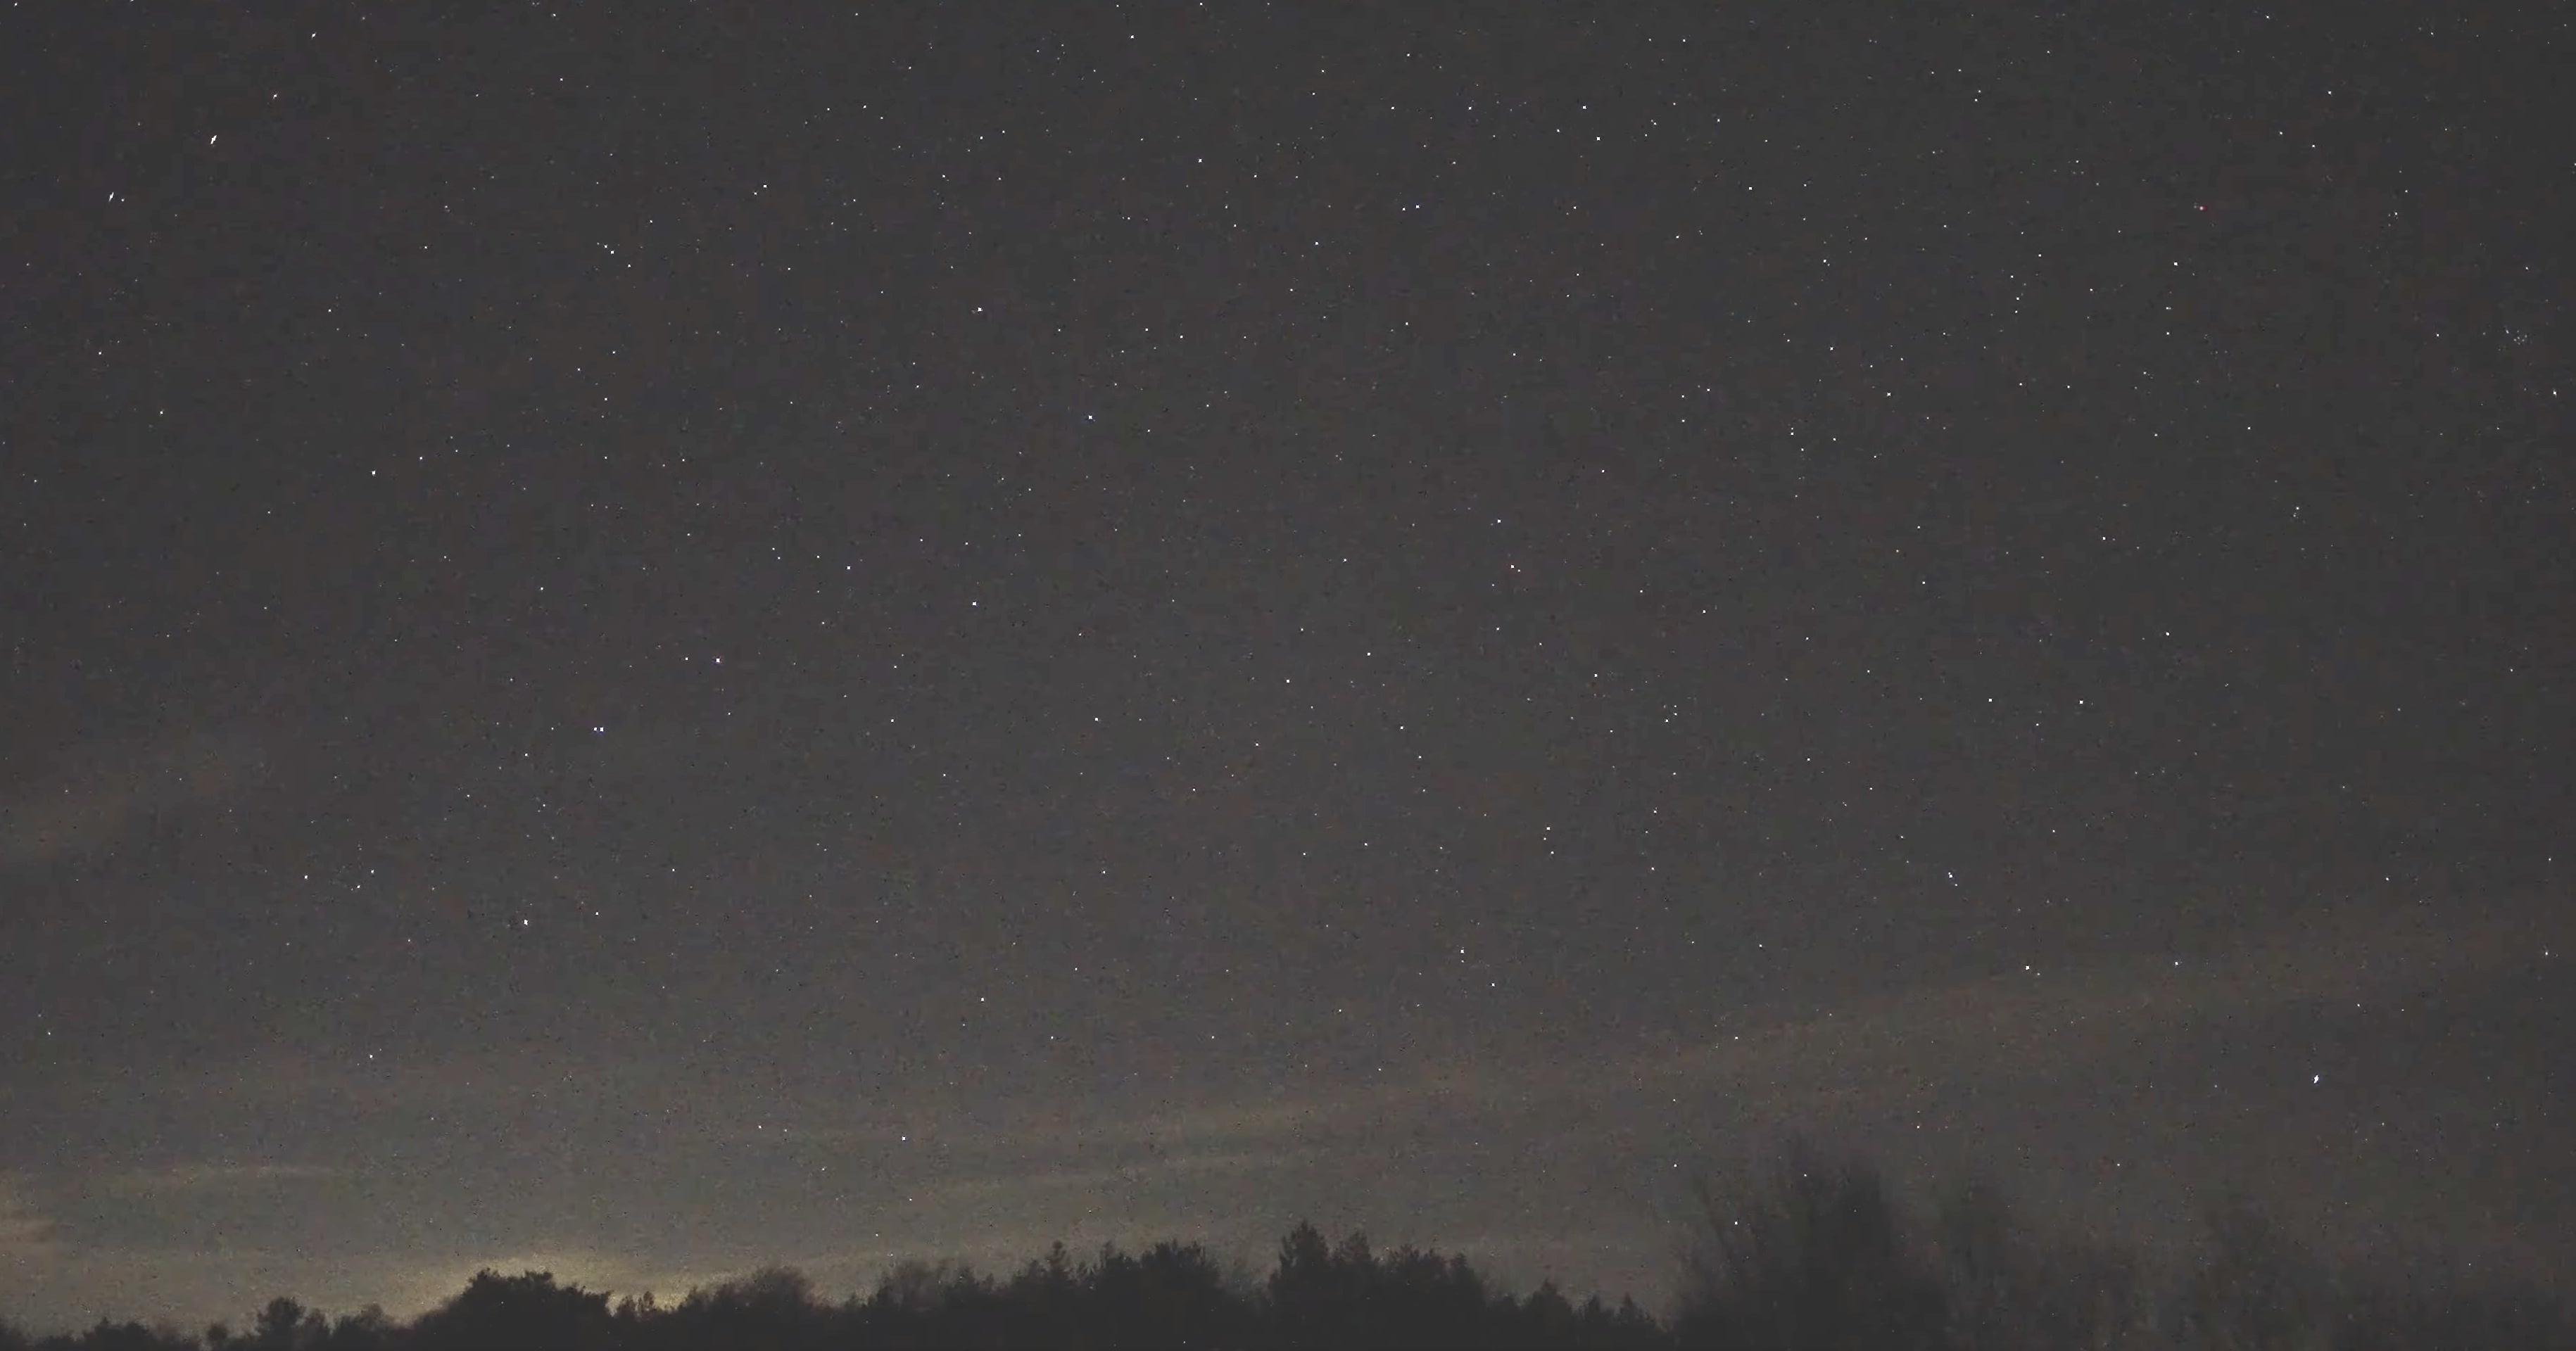Plane: (2176, 191, 2223, 235)
